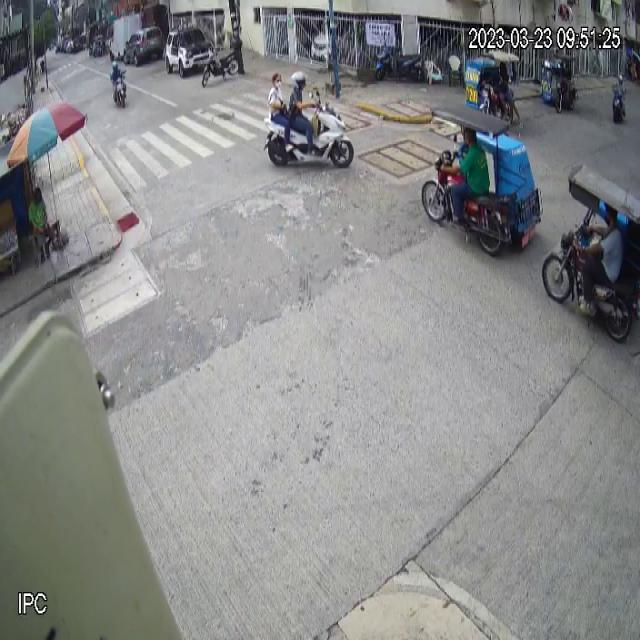Motorcycle: (262, 90, 356, 168)
Tricycle: (419, 102, 546, 256), (541, 163, 640, 344)
